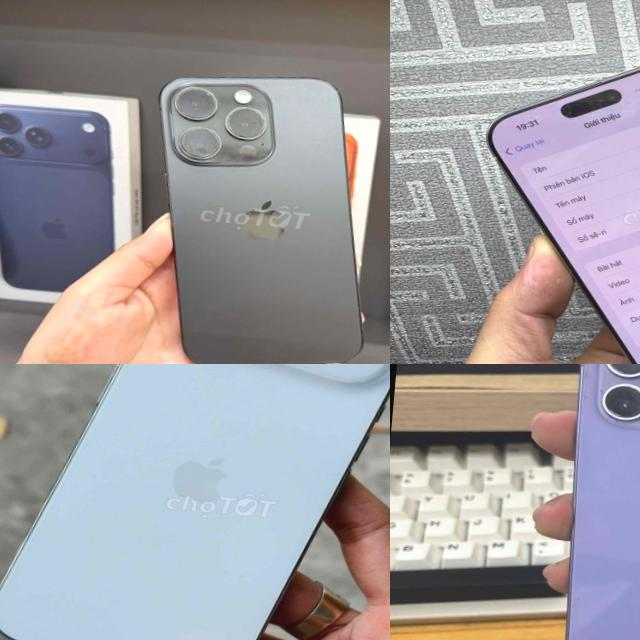gen_12_13: (540, 364, 640, 640)
gen_15: (141, 54, 390, 364)
gen_16: (487, 68, 640, 364)
gen_17: (0, 364, 390, 640)
